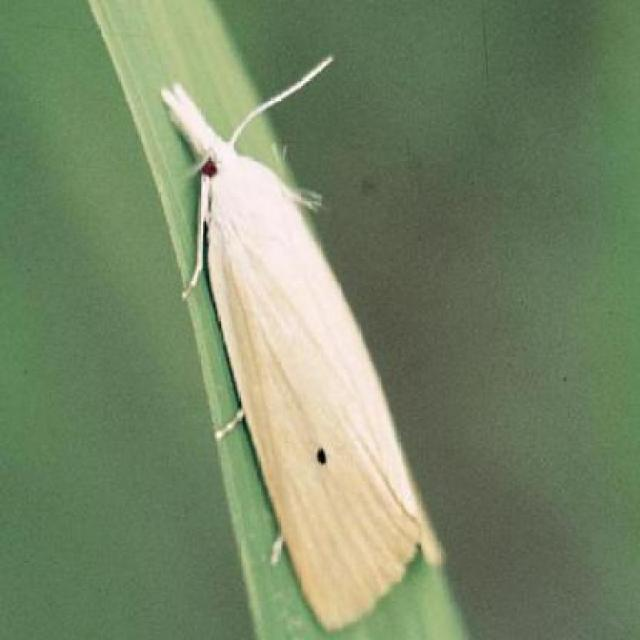stem-borer: (155, 74, 451, 640)
